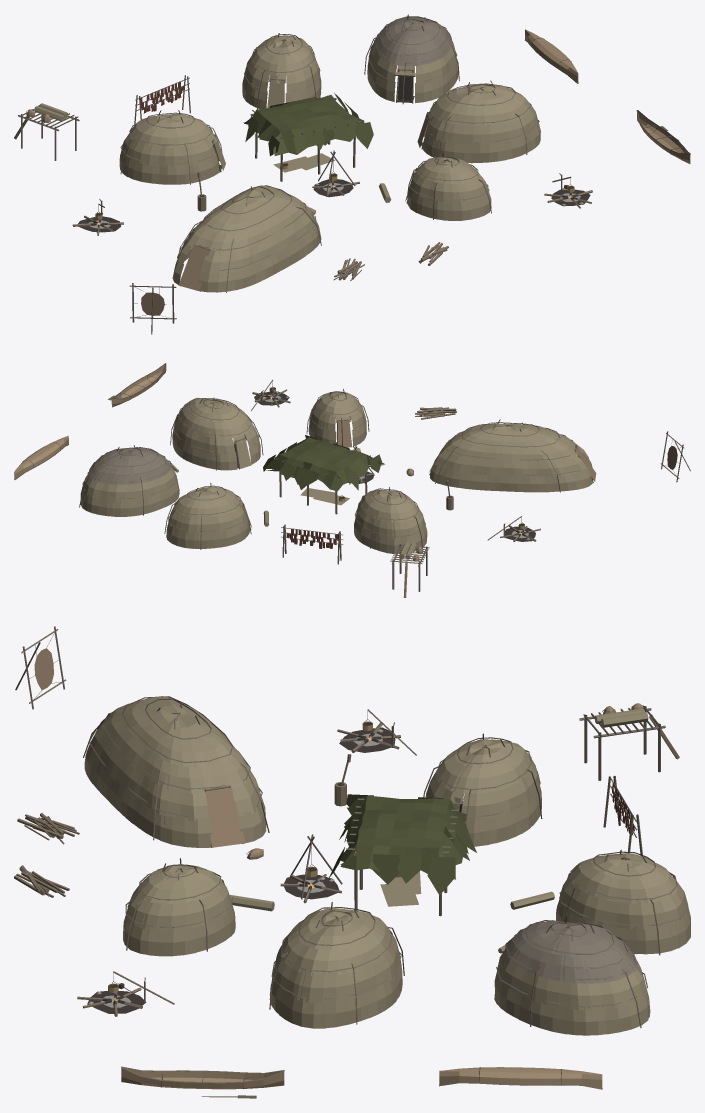
File: potawatomi_camp_1812_west_bank__camp_1812.glb
3 views of the same model, one above another, from view 1: azimuth 30°, elevation 25°; view 2: azimuth 150°, elevation 25°; view 3: azimuth 270°, elevation 25° (orthographic). The views are drawn at different scales.
Parts seen in each view (by area): view 1: potawatomi_camp_1812_west_bank__camp_1812; view 2: potawatomi_camp_1812_west_bank__camp_1812; view 3: potawatomi_camp_1812_west_bank__camp_1812.
Boxes of the visible parts, box(x1,y1,x2,y2) form: potawatomi_camp_1812_west_bank__camp_1812: box(14, 14, 690, 334); potawatomi_camp_1812_west_bank__camp_1812: box(14, 363, 690, 597); potawatomi_camp_1812_west_bank__camp_1812: box(14, 626, 690, 1098).
Size of the model in its own units: 31.23 by 3.08 by 21.55.
